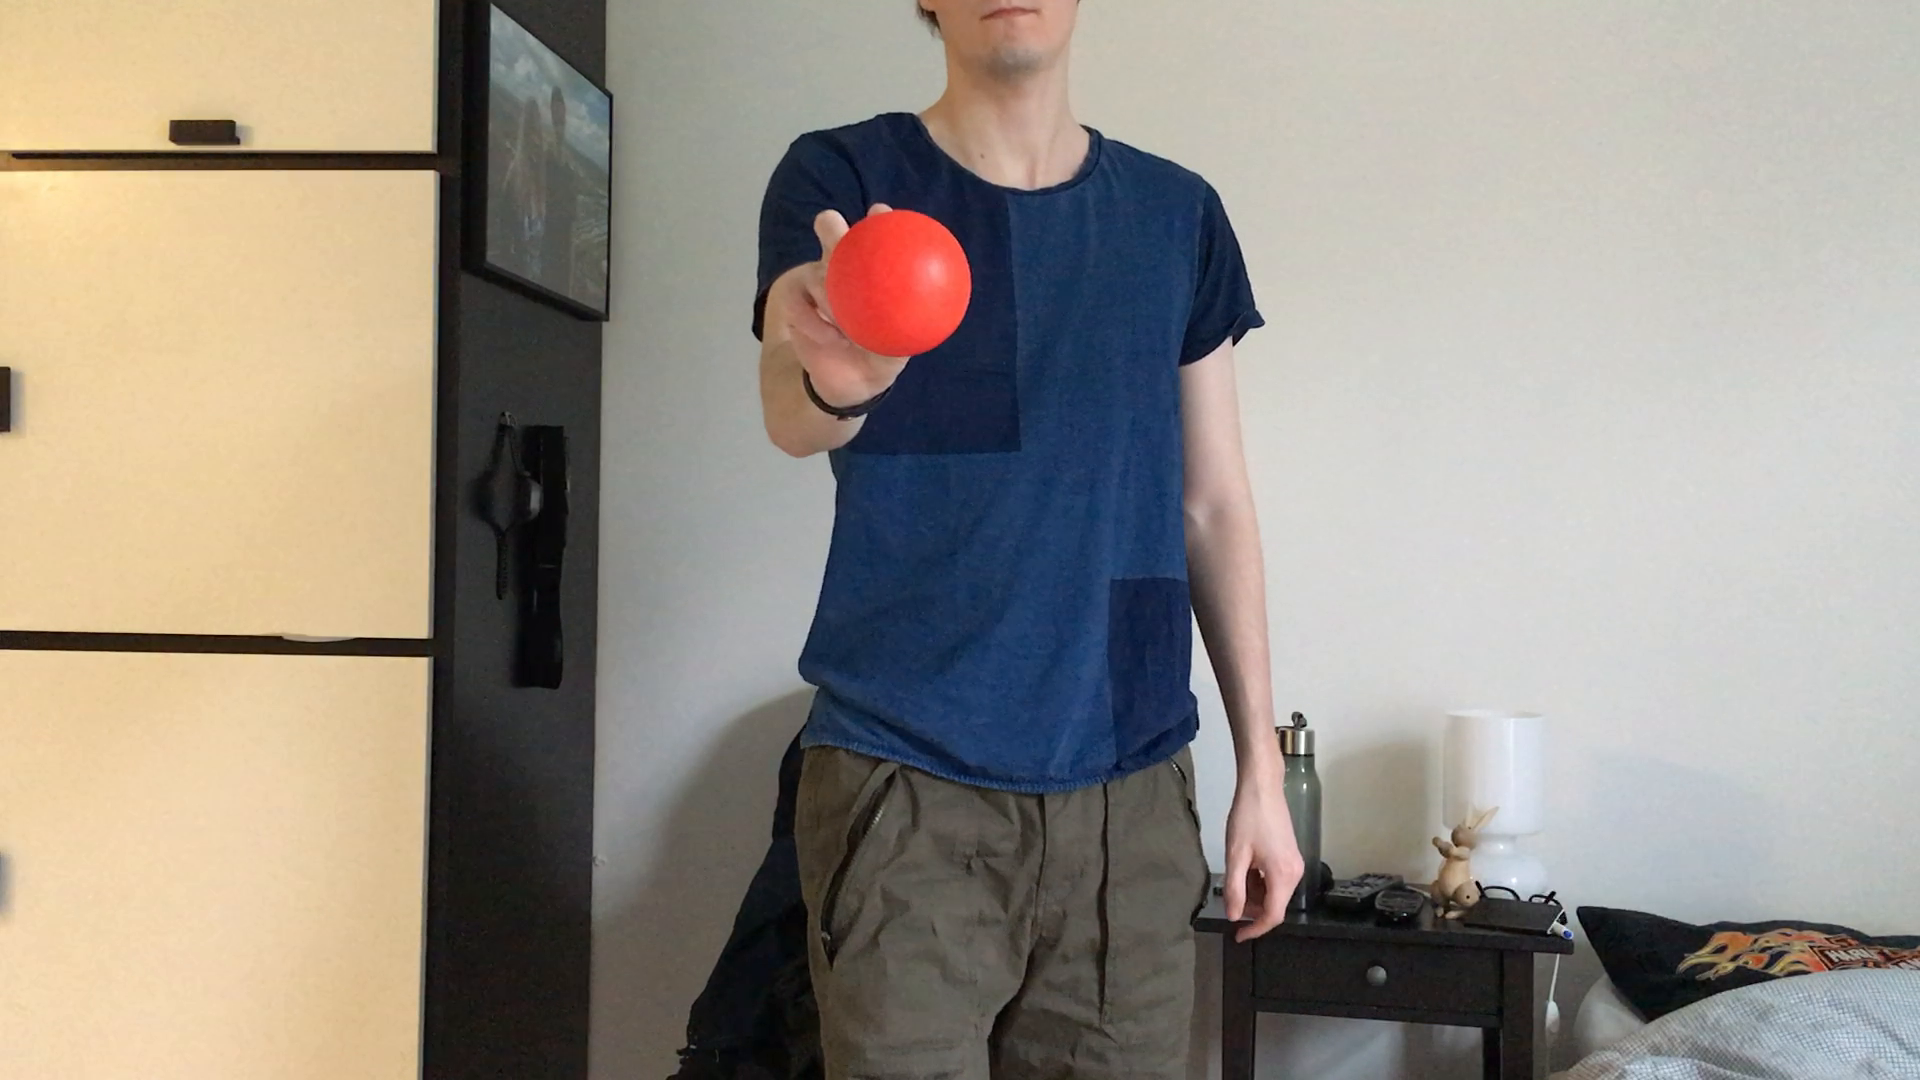Ball: (829, 203, 971, 359)
